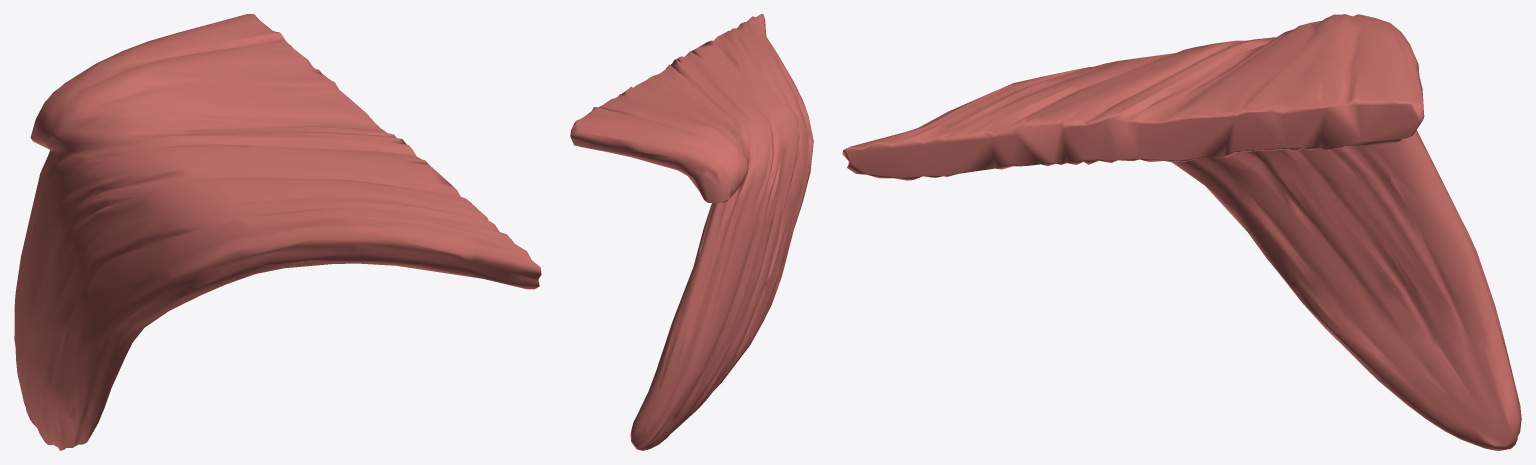
3 renders of one model, left to right at view 1: azimuth 30°, elevation 25°; view 2: azimuth 150°, elevation 25°; view 3: azimuth 270°, elevation 25°, orthographic. The views are drawn at different scales.
Parts seen in each view (by area): view 1: 右侧咽中缩肌; view 2: 右侧咽中缩肌; view 3: 右侧咽中缩肌.
Boxes of the visible parts, x1,y1,x2,y2 form: 右侧咽中缩肌: (14,14,541,450); 右侧咽中缩肌: (570,14,813,450); 右侧咽中缩肌: (842,14,1521,450).
Bounding box in the file's own units: 0.0277 × 0.0465 × 0.0674.
